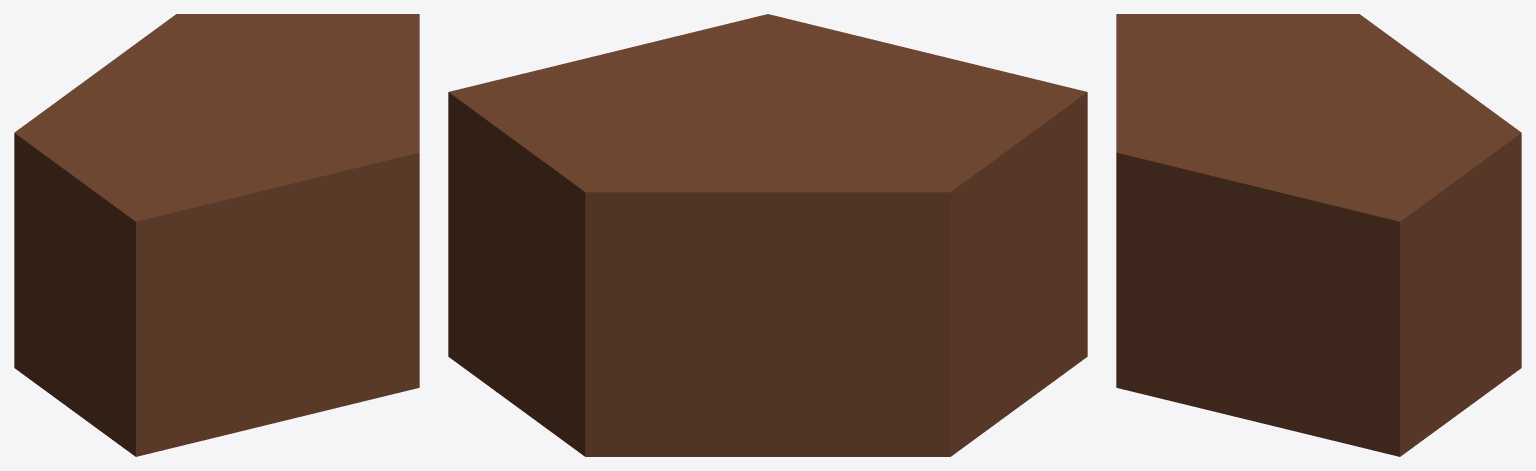
File: _wooden_wall_2_t.glb
3 renders of one model, left to right at view 1: azimuth 30°, elevation 25°; view 2: azimuth 150°, elevation 25°; view 3: azimuth 270°, elevation 25°, orthographic. The views are drawn at different scales.
Parts seen in each view (by area): view 1: WoodenWallHalfCurvedTallFill; view 2: WoodenWallHalfCurvedTallFill; view 3: WoodenWallHalfCurvedTallFill.
Boxes of the visible parts, x1,y1,x2,y2 form: WoodenWallHalfCurvedTallFill: [14, 14, 419, 456]; WoodenWallHalfCurvedTallFill: [448, 14, 1087, 456]; WoodenWallHalfCurvedTallFill: [1116, 14, 1521, 456].
Bounding box in the file's own units: 1.52 × 0.8 × 1.25.
Materials: 1 (1 with a texture image).
